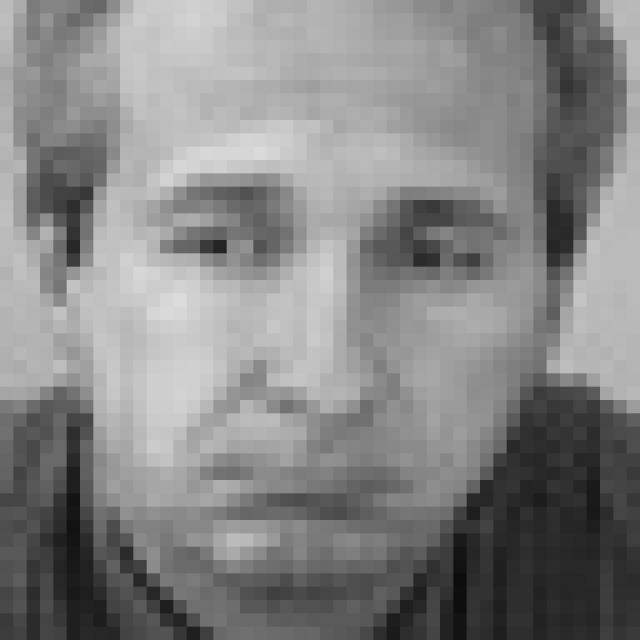sad: (130, 162, 512, 522)
